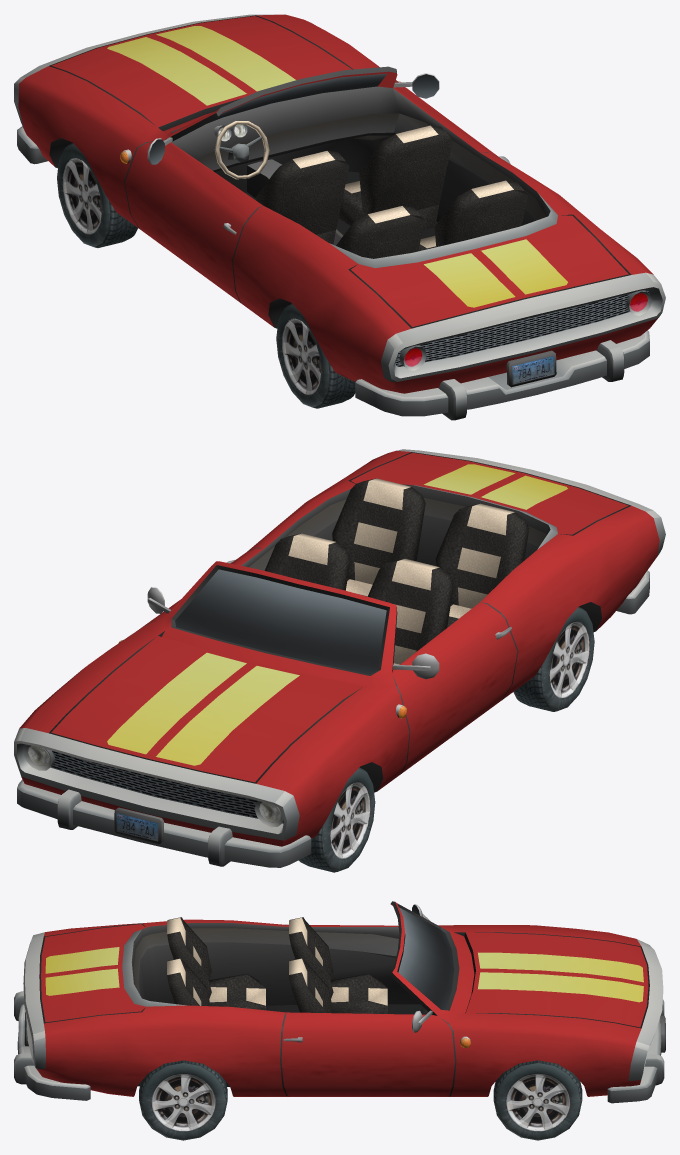
Rendered from VHC0110002.FBX.
3 renders of one model, top to bottom at view 1: azimuth 30°, elevation 25°; view 2: azimuth 150°, elevation 25°; view 3: azimuth 270°, elevation 25°, orthographic. The views are drawn at different scales.
Visible parts, largest first — view 1: smVHC0110002; view 2: smVHC0110002; view 3: smVHC0110002.
Part boxes in pixels (x1=…): smVHC0110002: x1=14, y1=14, x2=665, y2=420; smVHC0110002: x1=14, y1=449, x2=665, y2=872; smVHC0110002: x1=14, y1=901, x2=665, y2=1140.
Bounding box in the file's own units: 163 × 105 × 390.
1 material, 1 textured.
